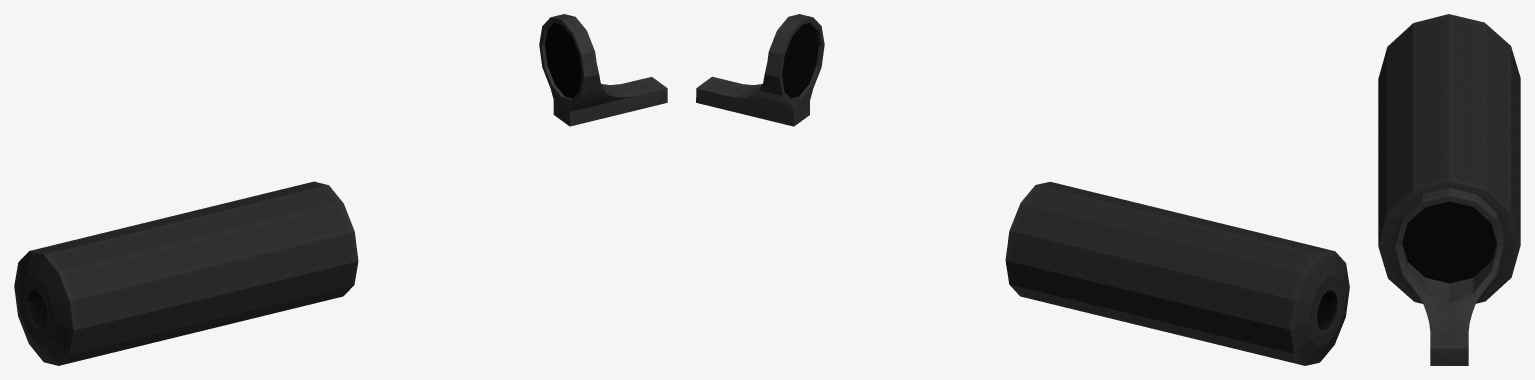
Rendered from pistol_1_equip.fbx.
3 renders of one model, left to right at view 1: azimuth 30°, elevation 25°; view 2: azimuth 150°, elevation 25°; view 3: azimuth 270°, elevation 25°, orthographic. The views are drawn at different scales.
Parts seen in each view (by area): view 1: Suppressor, sight, glass; view 2: Suppressor, sight, glass; view 3: Suppressor, sight, glass.
Boxes of the visible parts, box(x1,y1,x2,y2) form: Suppressor: box(14, 181, 358, 365); sight: box(539, 14, 667, 126); glass: box(545, 23, 581, 98); Suppressor: box(1005, 181, 1349, 365); sight: box(696, 14, 824, 126); glass: box(782, 23, 818, 98); Suppressor: box(1378, 14, 1520, 303); sight: box(1395, 187, 1503, 365); glass: box(1402, 201, 1496, 283).
Size of the model in its own units: 1342 by 444 by 221.
